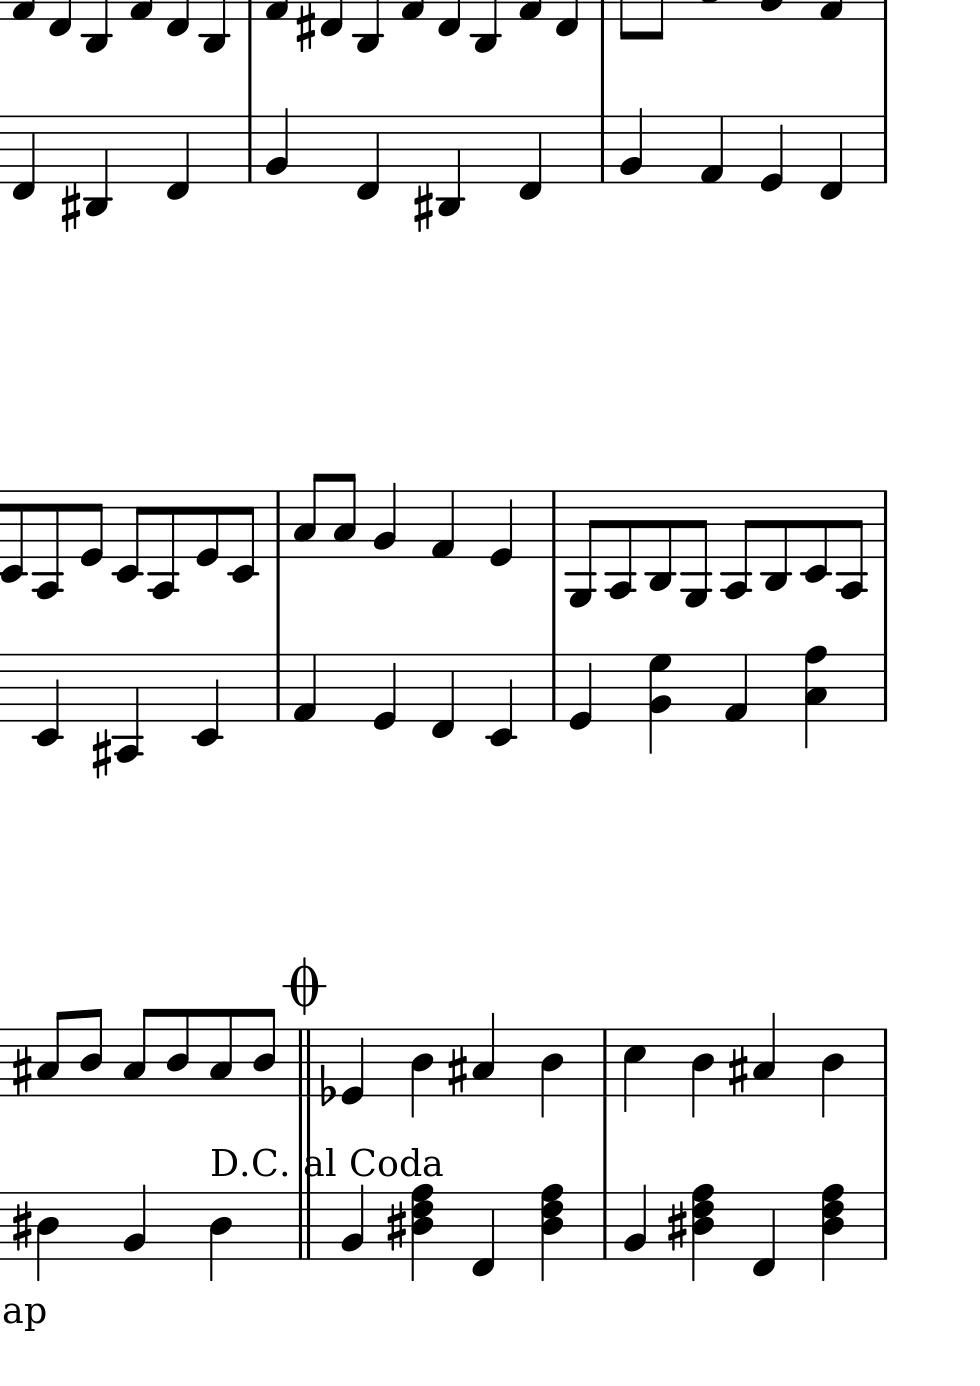4_-1: (428, 652, 456, 740), (817, 115, 844, 201), (470, 1190, 496, 1280), (10, 113, 36, 201), (517, 113, 543, 201), (163, 115, 190, 201), (354, 115, 381, 201), (751, 1190, 776, 1279)
4_-2: (486, 651, 515, 747), (192, 651, 221, 748), (34, 651, 62, 749)
4_-3: (84, 111, 112, 220), (436, 111, 463, 218)
4_-4: (113, 650, 143, 762)
4_0: (487, 488, 515, 569), (757, 115, 785, 193), (371, 651, 398, 732), (567, 651, 594, 731), (340, 1027, 366, 1106)
4_1: (696, 115, 727, 185), (428, 488, 457, 561), (291, 652, 319, 723), (722, 652, 748, 724)
4_2: (617, 106, 645, 185), (371, 481, 399, 559), (622, 1181, 648, 1261), (263, 106, 290, 185), (122, 1183, 148, 1261), (339, 1185, 365, 1262)
4_3: (751, 1011, 777, 1096), (471, 1011, 496, 1096)
4_4: (819, 1027, 846, 1118), (688, 1027, 715, 1120), (207, 1190, 233, 1282), (538, 1027, 564, 1118), (408, 1027, 434, 1119), (35, 1190, 60, 1282)
4_5: (622, 1027, 647, 1115)
4_th: (688, 1179, 716, 1281), (819, 1181, 844, 1281), (409, 1183, 434, 1282), (539, 1182, 563, 1280)
8_-2: (110, 489, 146, 584), (800, 489, 829, 585), (227, 489, 257, 584), (1, 490, 25, 584)
8_-3: (646, 487, 675, 594), (762, 488, 790, 593)
8_-4: (721, 486, 755, 600), (605, 487, 636, 600), (147, 486, 178, 600), (835, 487, 865, 601), (31, 488, 62, 599)
8_-5: (566, 487, 598, 610), (681, 488, 711, 610)
8_0: (78, 489, 105, 569), (194, 487, 220, 568)
8_3: (121, 1008, 154, 1099), (36, 1008, 68, 1098), (292, 471, 323, 559), (207, 1007, 235, 1099), (331, 471, 357, 560)
8_4: (164, 1007, 191, 1099), (251, 1006, 277, 1099), (78, 1007, 103, 1099)
Coda: (282, 957, 325, 1015)
DCalCoda: (209, 1144, 443, 1180)
Double_barline: (294, 1028, 313, 1096), (295, 1192, 313, 1259)
Flat: (317, 1062, 336, 1107)
Sharp: (384, 1199, 408, 1255), (665, 1198, 688, 1255), (725, 1043, 750, 1096), (445, 1043, 469, 1096), (10, 1200, 31, 1253), (59, 181, 81, 233), (10, 1043, 31, 1095), (412, 181, 433, 232), (90, 729, 111, 779), (295, 2, 315, 53)
Single_barline: (596, 1029, 614, 1096), (269, 490, 286, 558), (876, 1029, 893, 1096), (545, 491, 562, 558), (876, 1193, 893, 1260), (596, 1193, 613, 1259), (242, 116, 258, 182), (594, 116, 610, 181), (270, 655, 286, 721), (545, 655, 561, 721), (878, 490, 893, 559), (877, 116, 892, 183), (877, 655, 892, 721)
